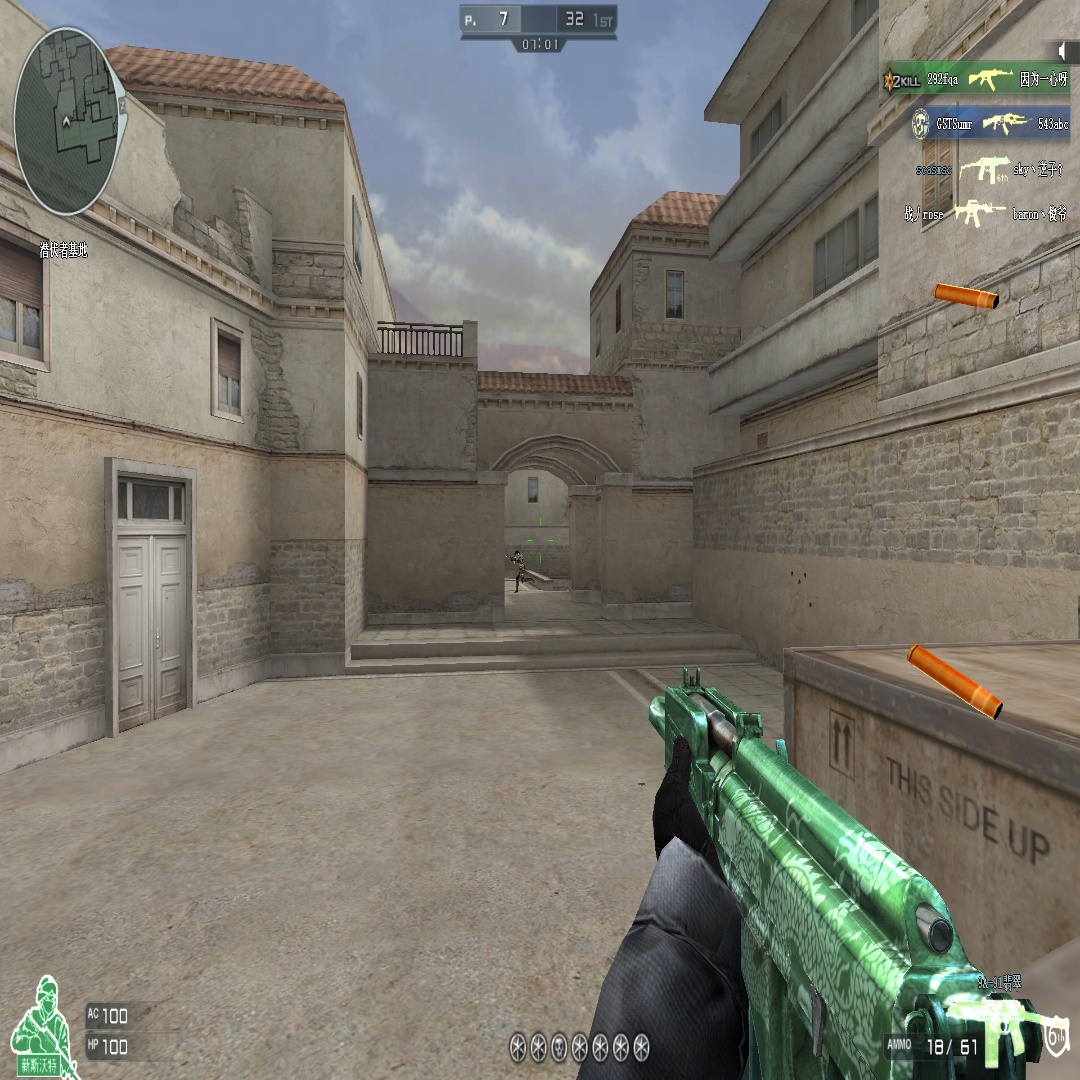head: (515, 549, 520, 558)
p: (513, 546, 526, 592)
